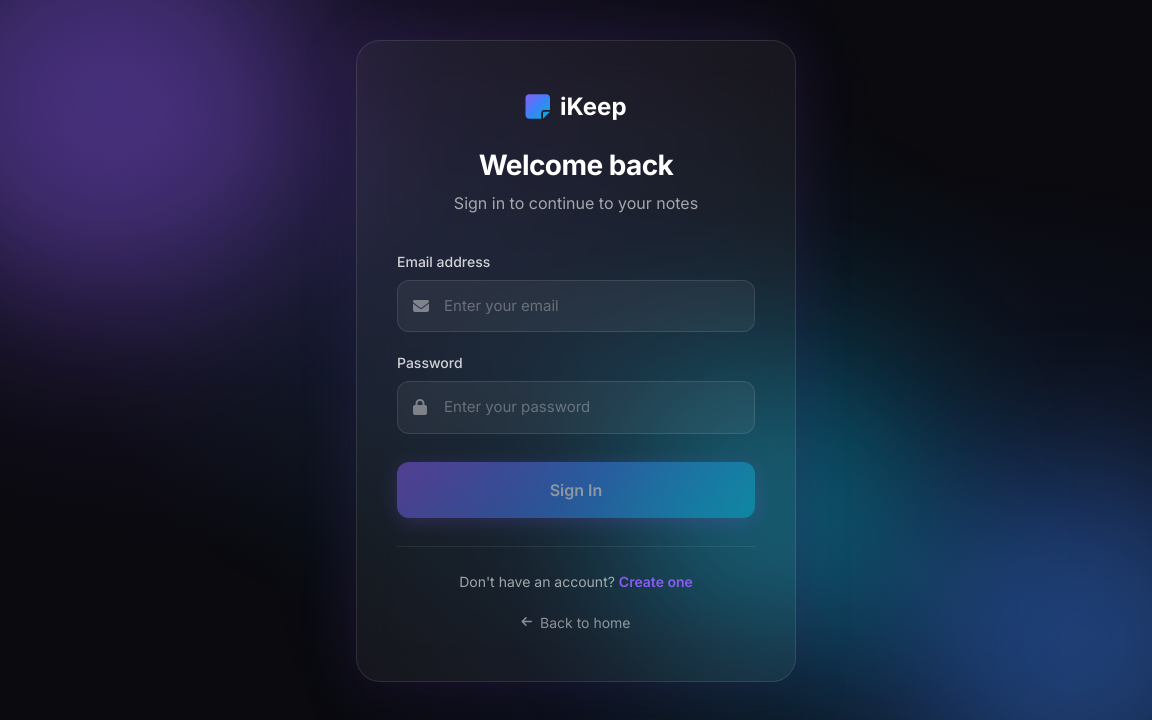
Scenario: Login Component › enables submit button when fields are filled
Type "test@example.com" into the field with placeholder "Enter your email" at point(576, 306), box [397, 280, 755, 332]
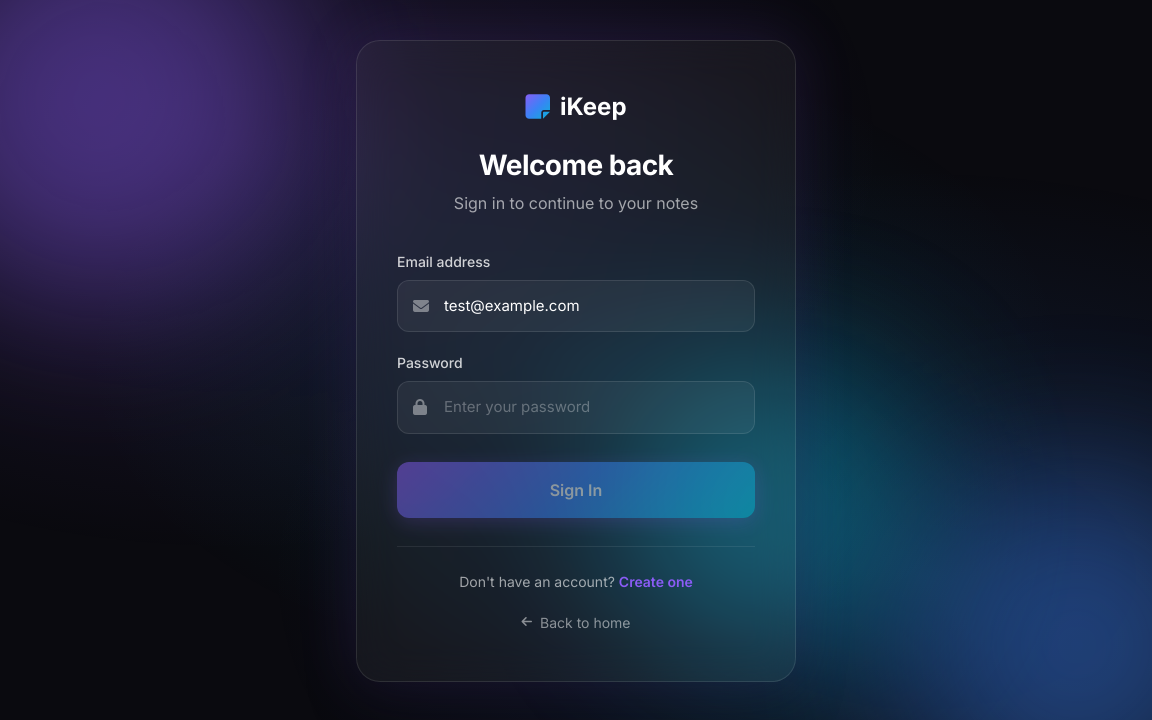
Type "password123" into the password field with placeholder "Enter your password" at point(576, 407), box [397, 381, 755, 434]
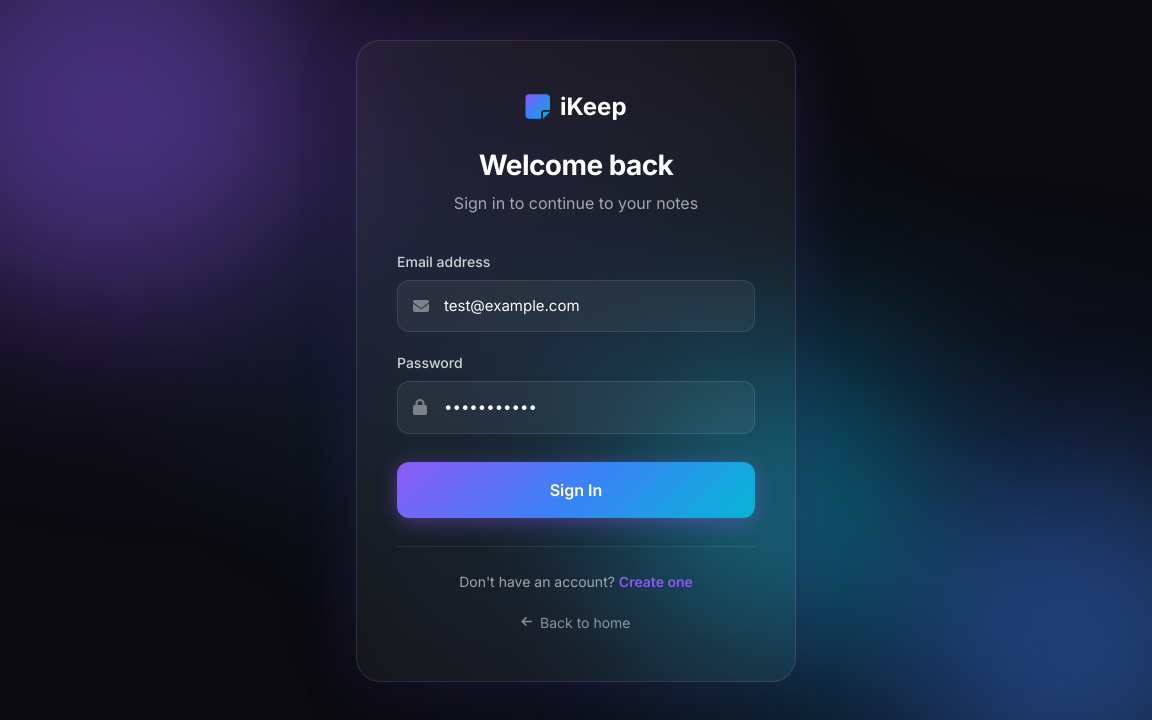
Result: the button "Sign In" is enabled at [397, 462, 755, 518]
